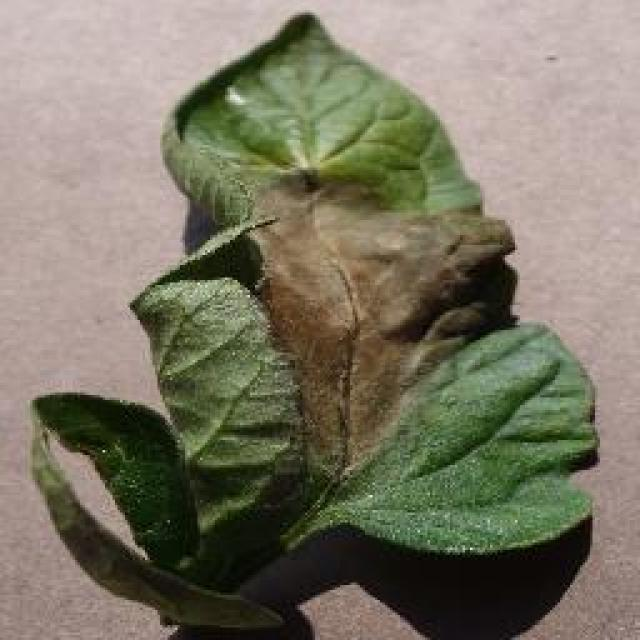Tomato Late Blight: (214, 40, 514, 502)
